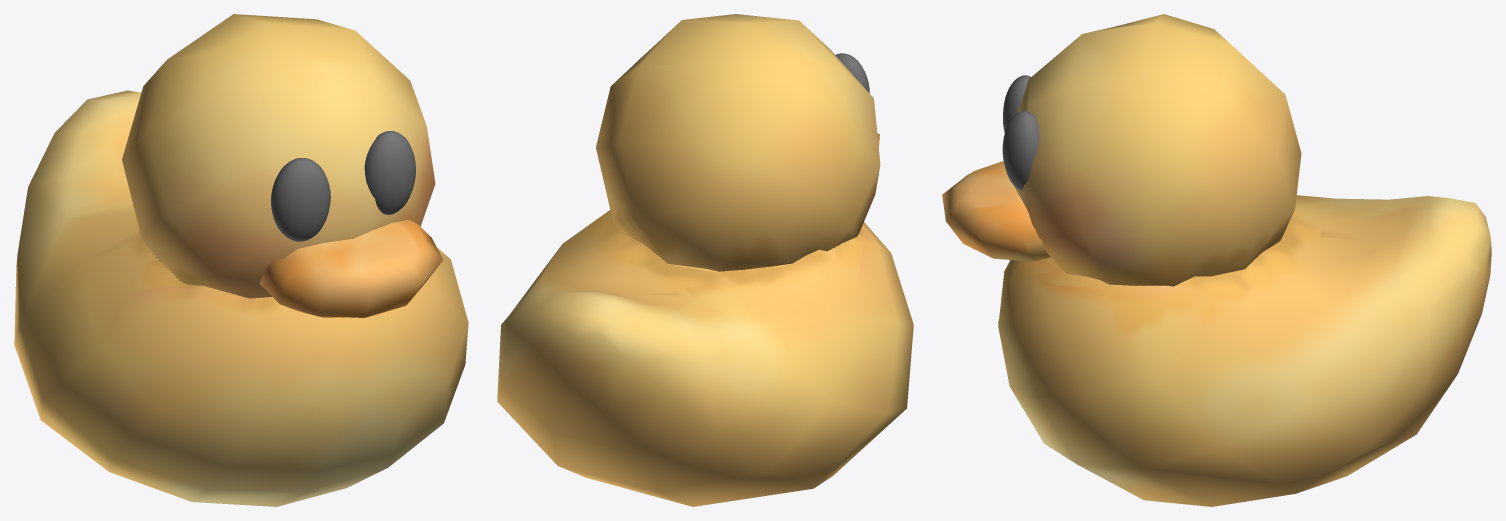
File: atraspat.fbx
3 renders of one model, left to right at view 1: azimuth 30°, elevation 25°; view 2: azimuth 150°, elevation 25°; view 3: azimuth 270°, elevation 25°, orthographic. The views are drawn at different scales.
Parts seen in each view (by area): view 1: patoooo:Mesh, ojoiz, ojode; view 2: patoooo:Mesh, ojoiz; view 3: patoooo:Mesh, ojode, ojoiz.
Part boxes in pixels (bbox=[...]): patoooo:Mesh: bbox=[14, 14, 468, 506]; ojoiz: bbox=[271, 158, 330, 241]; ojode: bbox=[364, 131, 415, 214]; patoooo:Mesh: bbox=[497, 14, 913, 506]; ojoiz: bbox=[835, 53, 869, 92]; patoooo:Mesh: bbox=[942, 14, 1491, 506]; ojode: bbox=[1002, 111, 1039, 190]; ojoiz: bbox=[1003, 75, 1030, 132].
Size of the model in its own units: 164 by 184 by 207.
